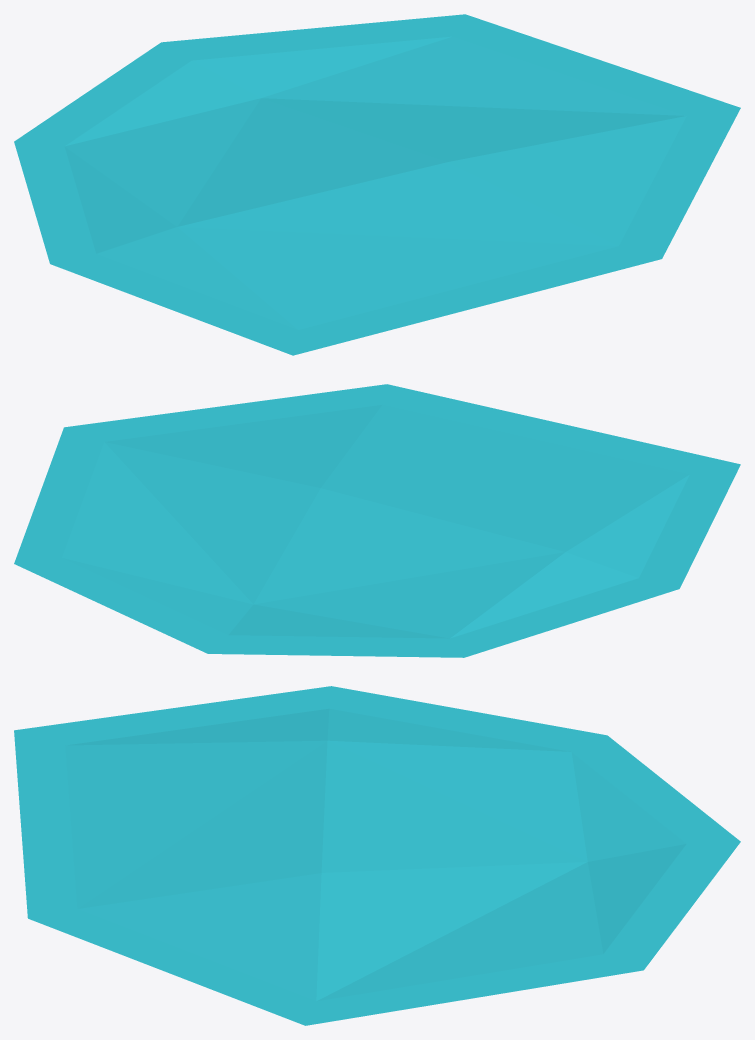
File: oasis-water.fbx
The picture shows the model from 3 angles, top to bottom: view 1: azimuth 30°, elevation 25°; view 2: azimuth 150°, elevation 25°; view 3: azimuth 270°, elevation 25°; orthographic projection. The views are drawn at different scales.
Parts seen in each view (by area): view 1: oasis-water; view 2: oasis-water; view 3: oasis-water.
Part boxes in pixels (x1=…): oasis-water: x1=14, y1=14, x2=740, y2=355; oasis-water: x1=14, y1=384, x2=740, y2=657; oasis-water: x1=14, y1=686, x2=740, y2=1025.
Size of the model in its own units: 9.97 by 0.2389 by 9.01.
